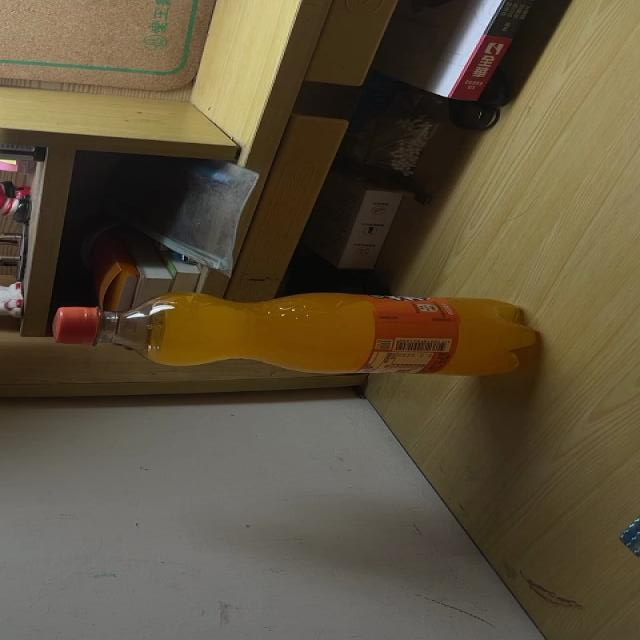Fanta: (54, 292, 541, 374)
